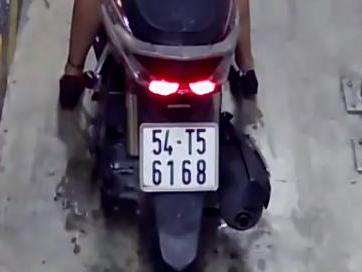num_plate: (141, 121, 219, 190)
